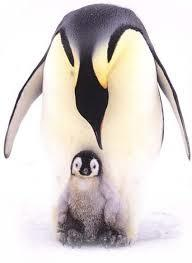emporer: (1, 0, 191, 249)
